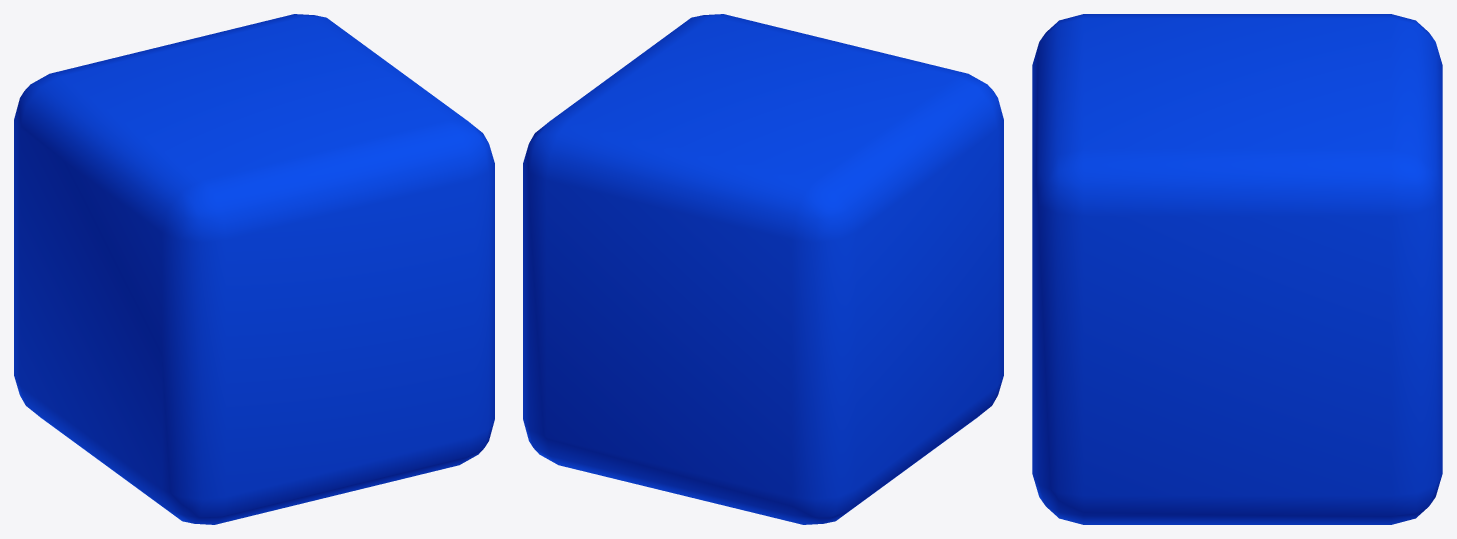
Rendered from BeatSaberBox_NoArrow.fbx.
3 views of the same model, side by side, from view 1: azimuth 30°, elevation 25°; view 2: azimuth 150°, elevation 25°; view 3: azimuth 270°, elevation 25° (orthographic). The views are drawn at different scales.
Visible parts, largest first — view 1: Cube.003; view 2: Cube.003; view 3: Cube.003.
Part boxes in pixels (<box>): Cube.003: <box>14,14,494,524</box>; Cube.003: <box>523,14,1003,524</box>; Cube.003: <box>1032,14,1442,524</box>.
Bounding box in the file's own units: 200 × 200 × 200.
